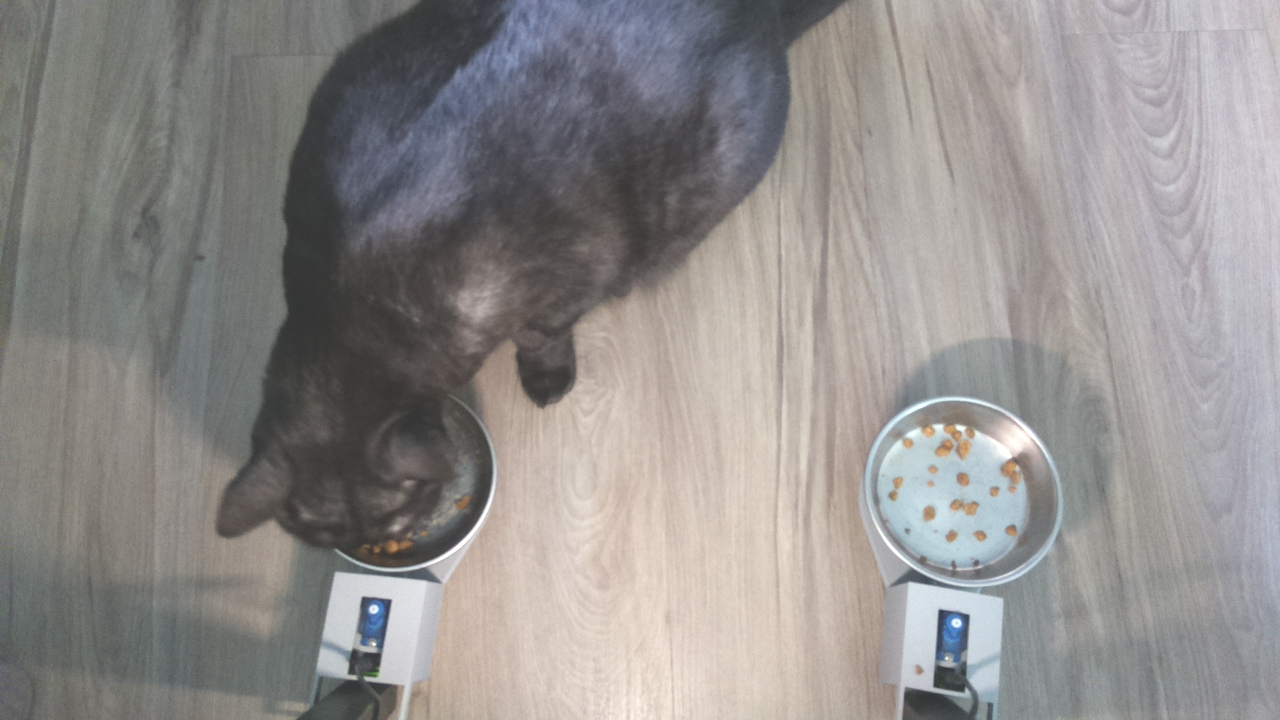open_bowl: (859, 394, 1063, 592)
saki_eating: (206, 314, 515, 593)
